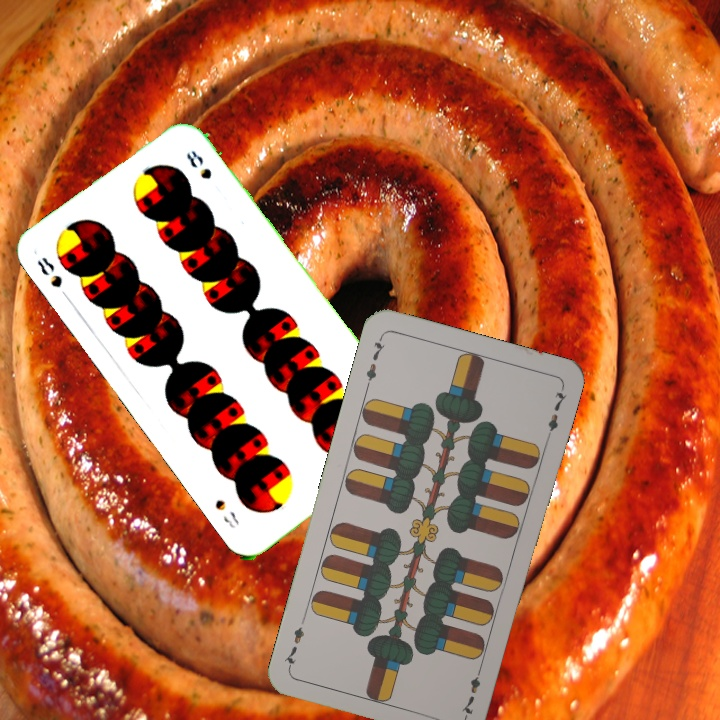E7: (457, 661, 485, 719), (362, 332, 388, 390)
S8: (33, 253, 73, 304)
